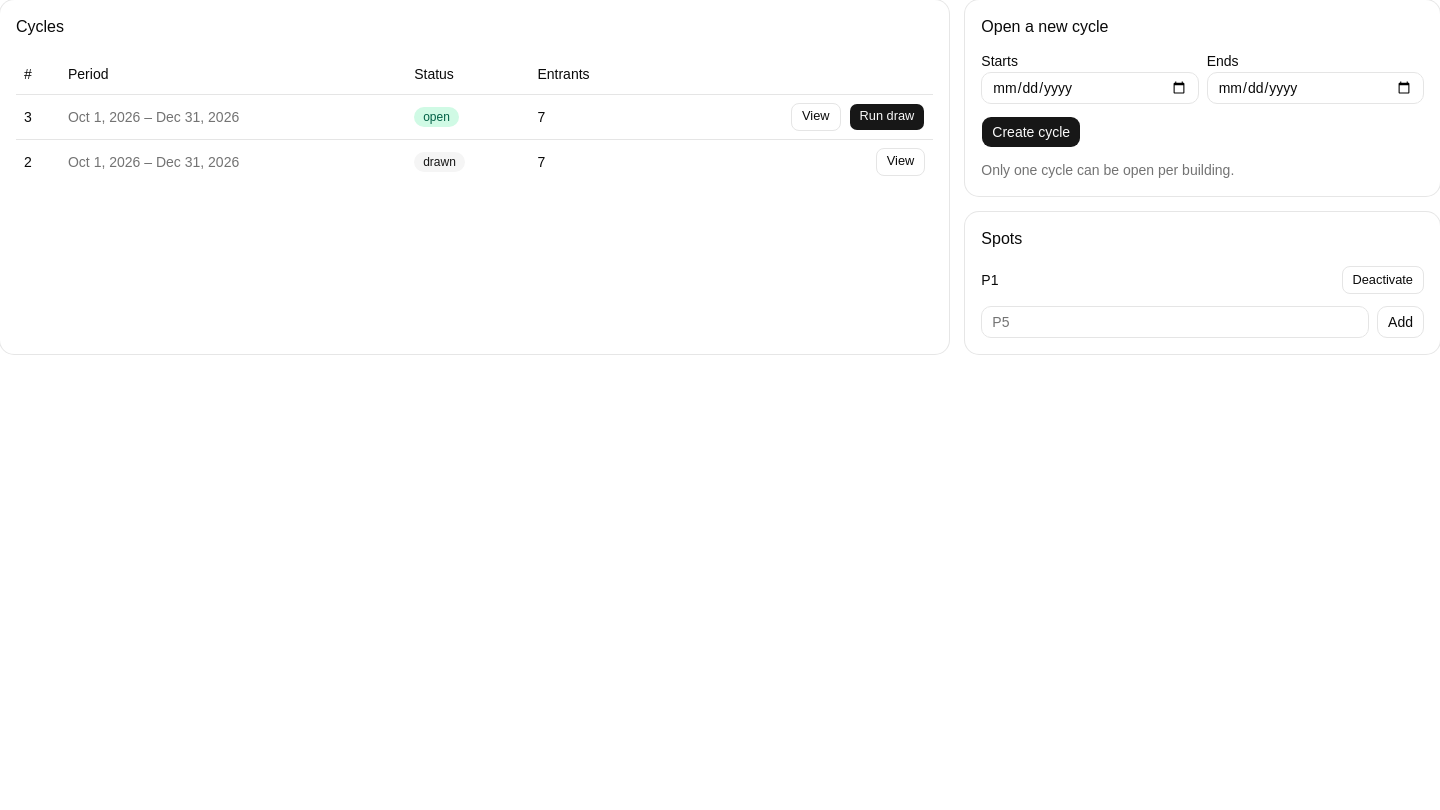
Test case: AdminView draw confirmation › runs the draw for the confirmed cycle and shows its results
This screenshot has width=1440, height=810.
Click the button "Run draw".
click(887, 116)  # box [848,102,925,130]
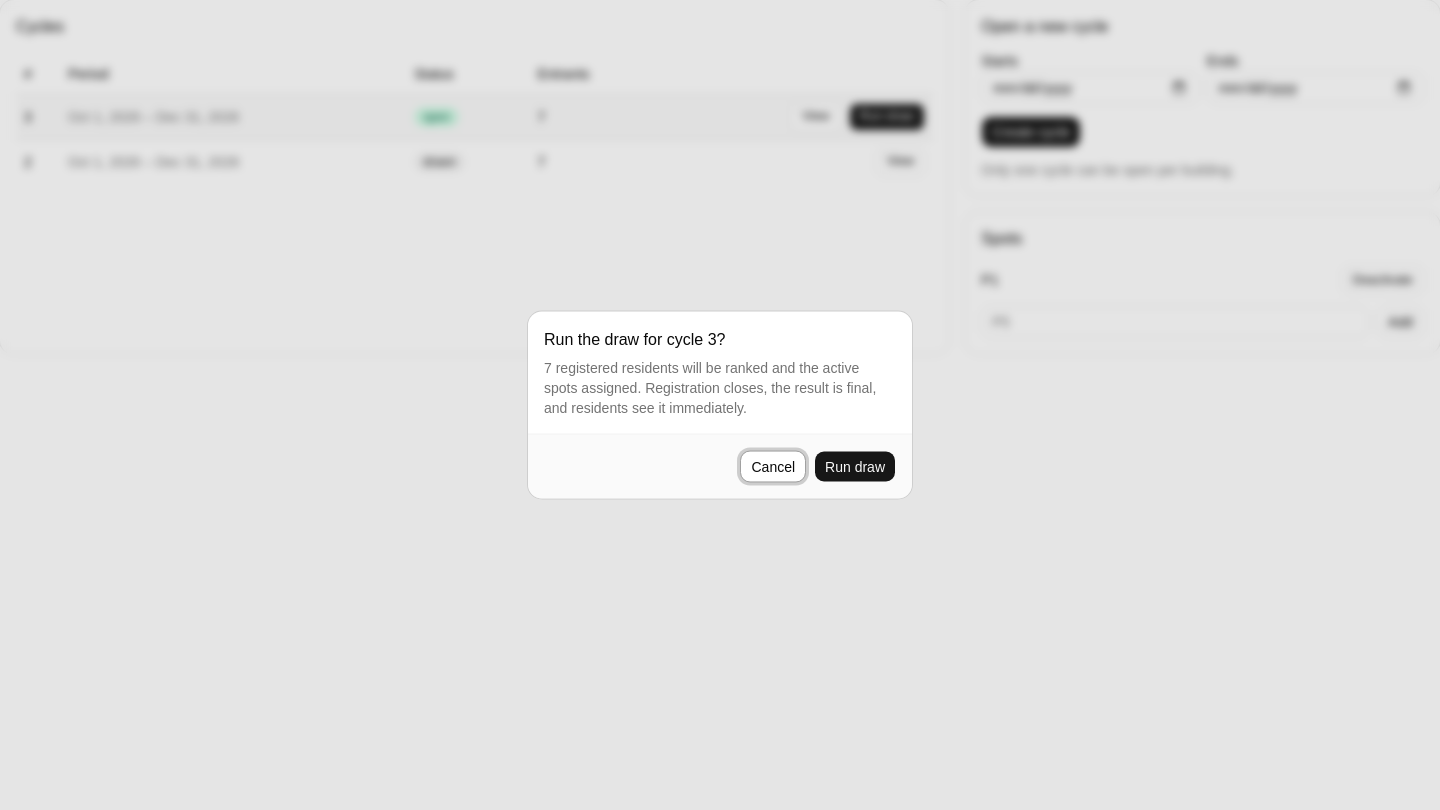
Click the button "Run draw".
click(855, 466)  # box [814,450,896,482]
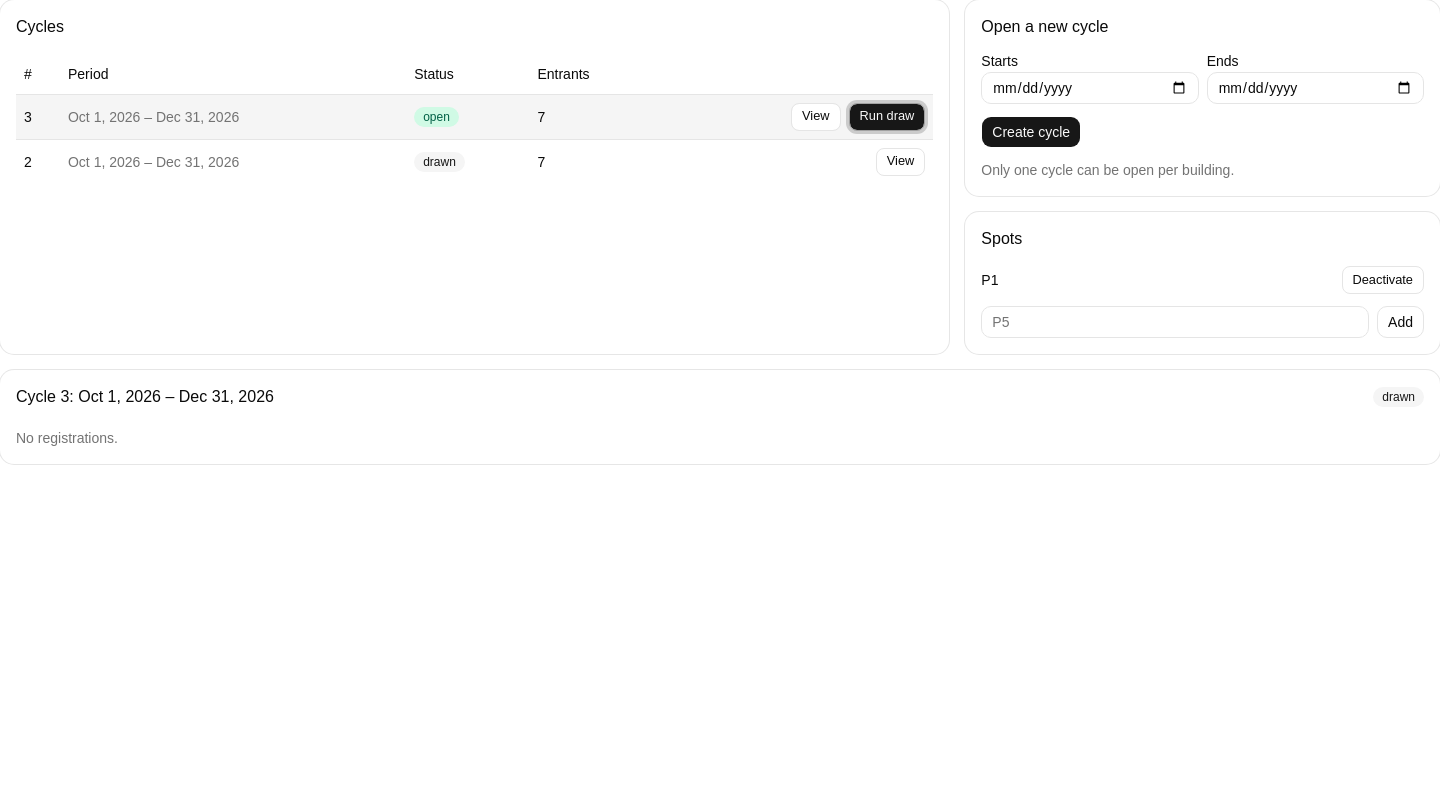
Expected: the heading "Cycle 3: Oct 1, 2026 – Dec 31, 2026" is shown, [16,388,274,405]
